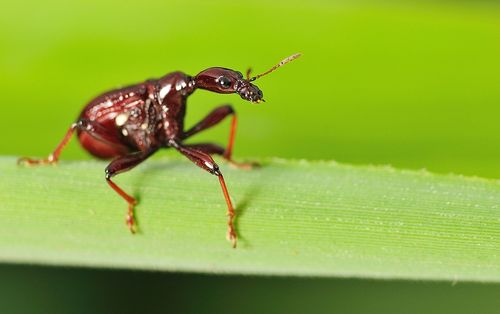Curculionidae: (14, 51, 303, 248)
